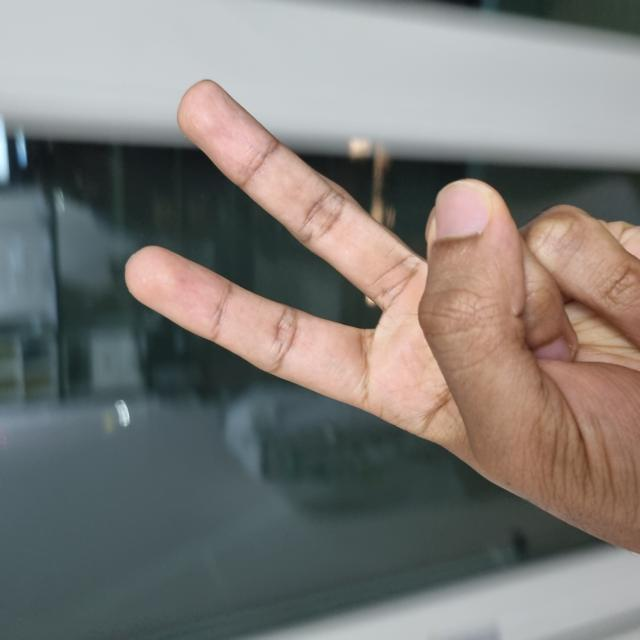Scissors: (66, 388, 459, 640)
